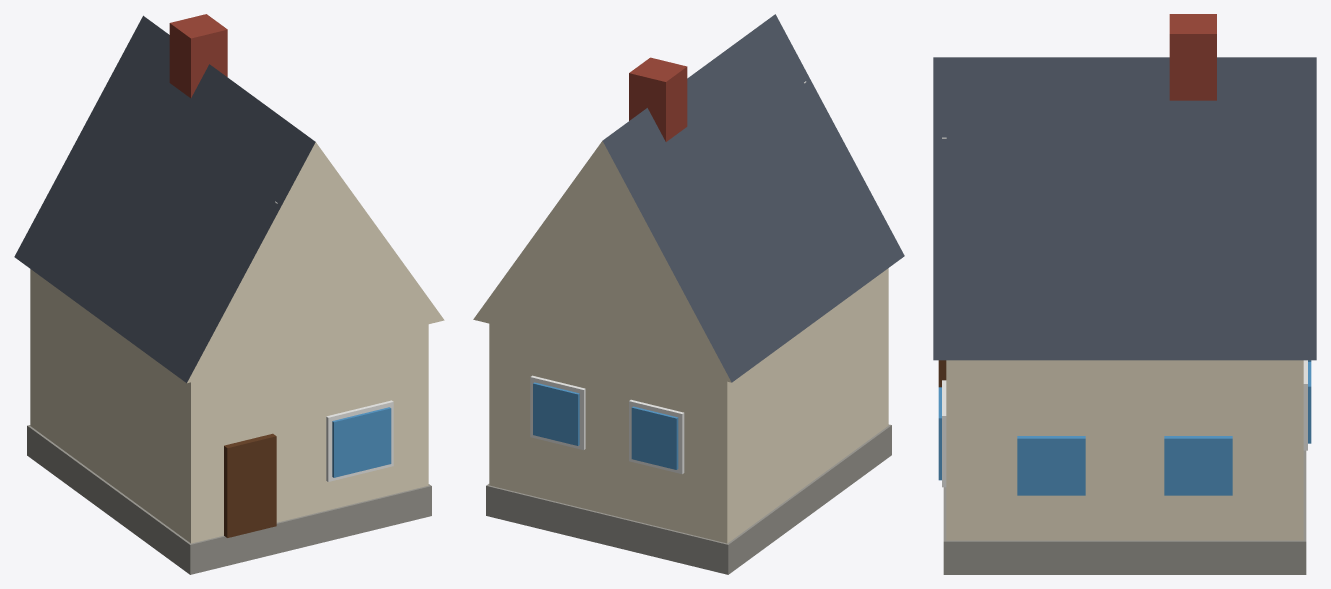
Rendered from 46_konigsberg_suburban_3.obj.
3 views of the same model, side by side, from view 1: azimuth 30°, elevation 25°; view 2: azimuth 150°, elevation 25°; view 3: azimuth 270°, elevation 25° (orthographic). The views are drawn at different scales.
Visible parts, largest first — view 1: 46_konigsberg_suburban_3; view 2: 46_konigsberg_suburban_3; view 3: 46_konigsberg_suburban_3.
Boxes of the visible parts, x1,y1,x2,y2 form: 46_konigsberg_suburban_3: (14,14,444,574); 46_konigsberg_suburban_3: (473,14,904,574); 46_konigsberg_suburban_3: (933,14,1316,574).
Size of the model in its own units: 1.26 by 2.04 by 1.46.
